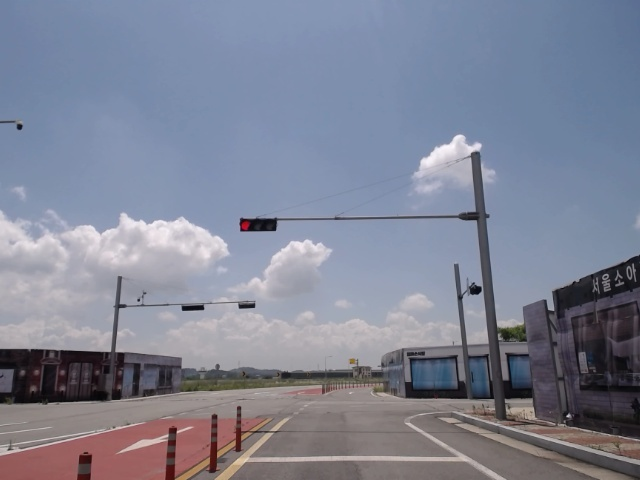red_3: (239, 218, 278, 233)
